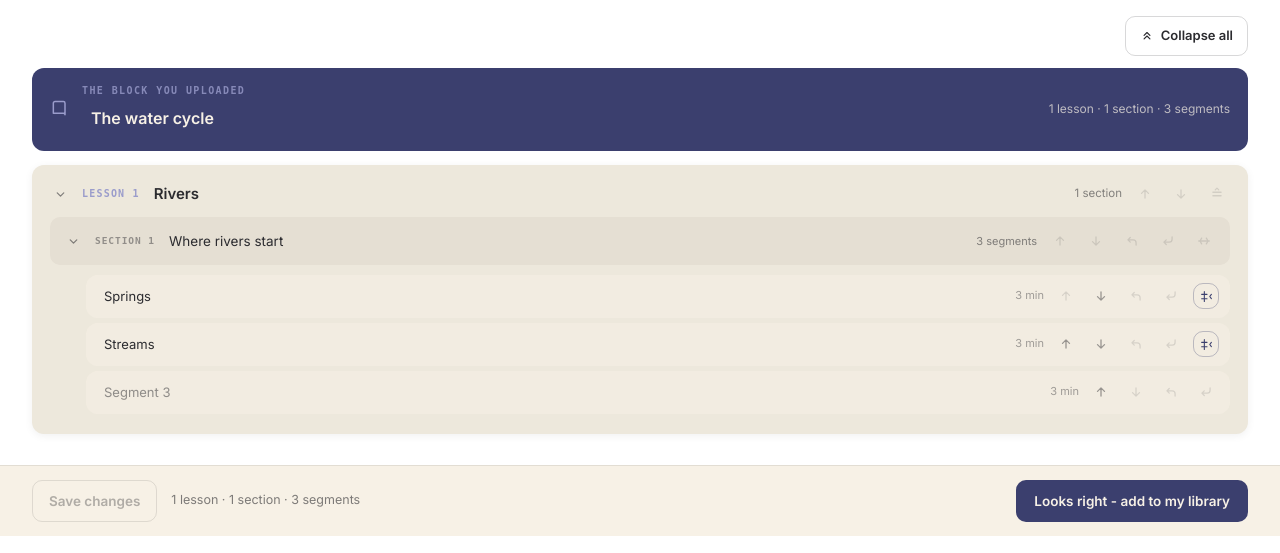
the unit's own title (T73) › shows what the server stored once saved
Replace the text in the field named "Unit title" with "Water on the move" at (559, 118), box [82,100,1037,136]
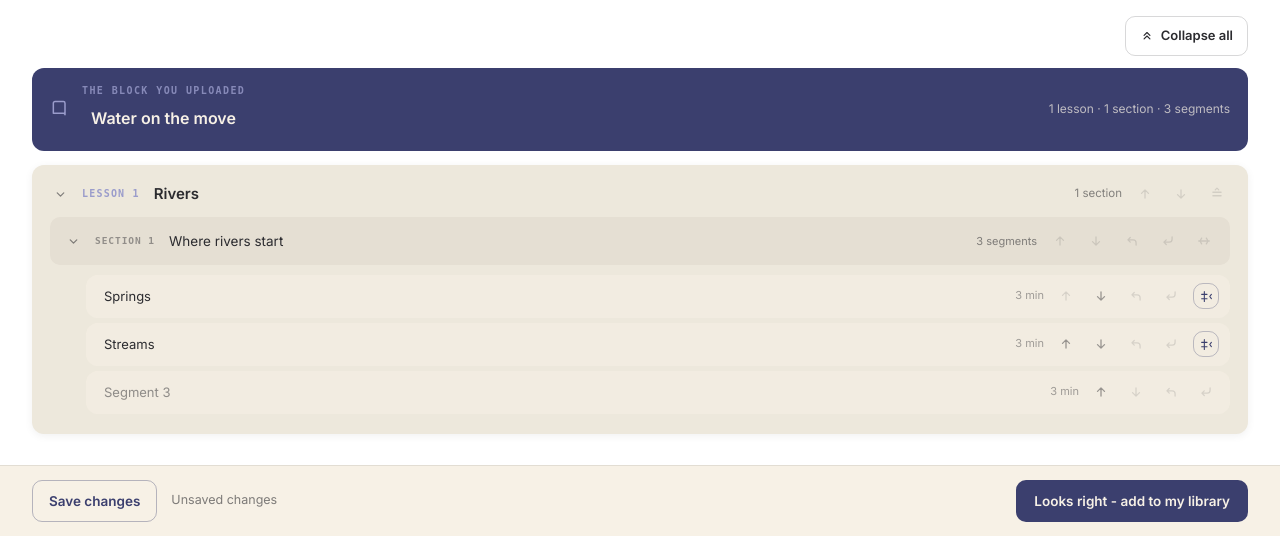
Click the button "Save changes" at (95, 501), box [32,480,157,522]
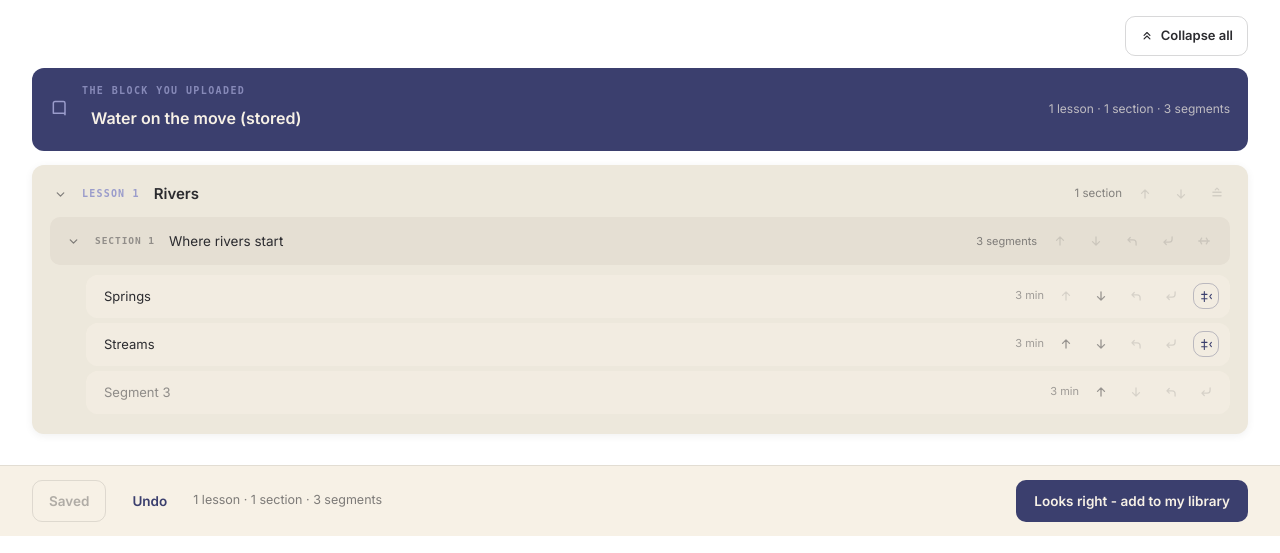
Check: the field showing "Water on the move (stored)" is shown, box [82,100,1037,136]
